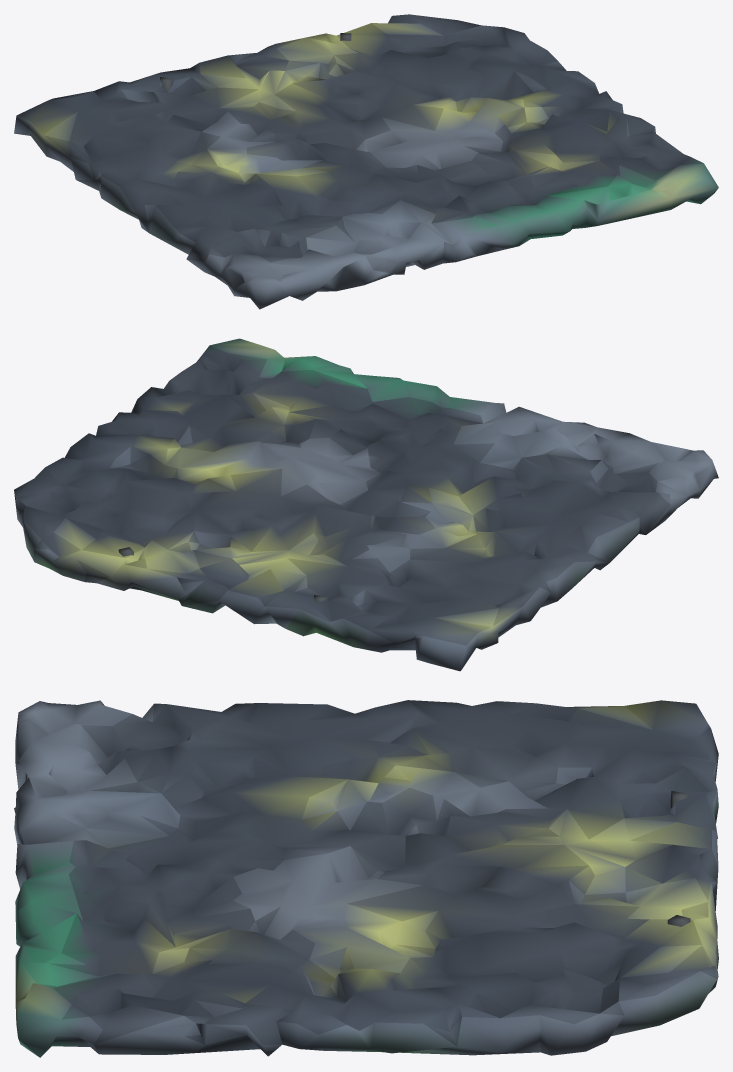
File: grotto_slate_lod1.glb
3 renders of one model, top to bottom at view 1: azimuth 30°, elevation 25°; view 2: azimuth 150°, elevation 25°; view 3: azimuth 270°, elevation 25°, orthographic. The views are drawn at different scales.
Parts seen in each view (by area): view 1: grotto_slate.001; view 2: grotto_slate.001; view 3: grotto_slate.001.
Part boxes in pixels (bbox=[...]): grotto_slate.001: bbox=[14, 14, 718, 309]; grotto_slate.001: bbox=[14, 338, 718, 671]; grotto_slate.001: bbox=[14, 700, 718, 1057].
Bounding box in the file's own units: 26.03 × 1.63 × 23.91.
